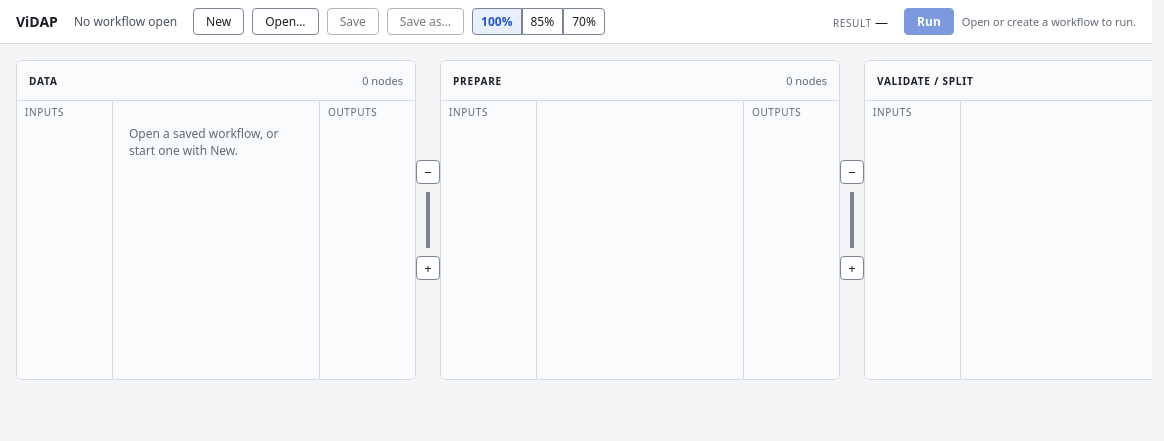
Graph authoring (P3-EP04B) › saves an untitled workflow through Save as, with null bases
The width and height of the screenshot is (1164, 441).
Step 1. Click the button "New" → point(219, 22), box 193,8 -> 244,35
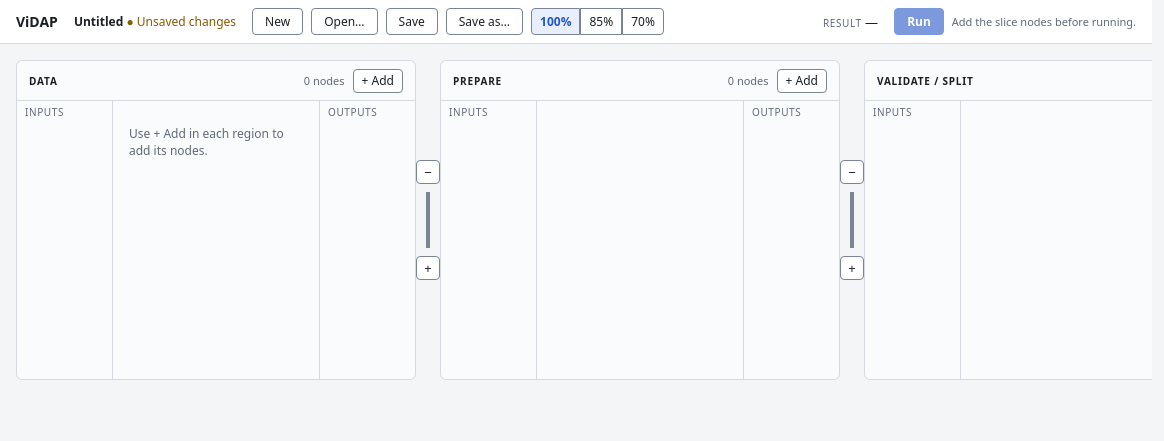
Step 2. Click the button "Save" → point(412, 22), box 386,8 -> 438,35
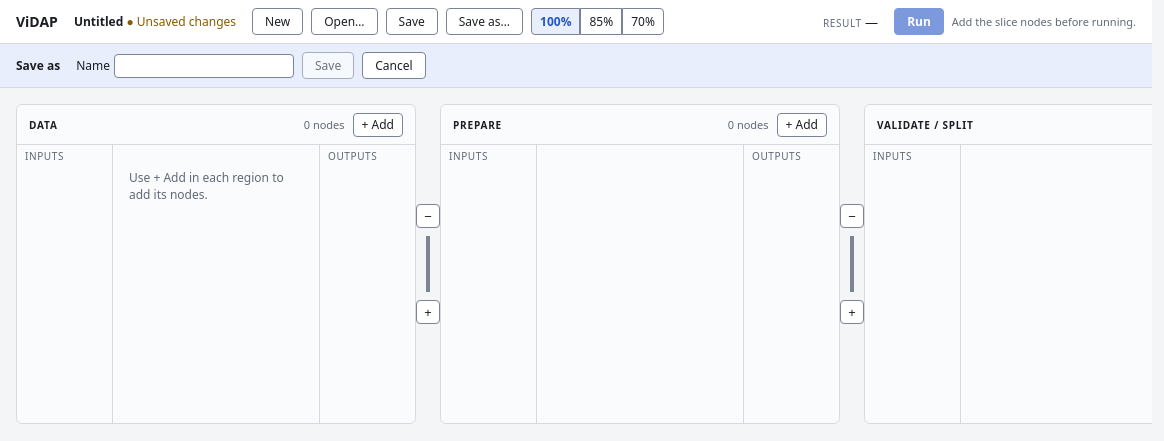
Step 3. Type "my-flow" into the field labelled "Name" → point(204, 66), box 114,54 -> 294,78
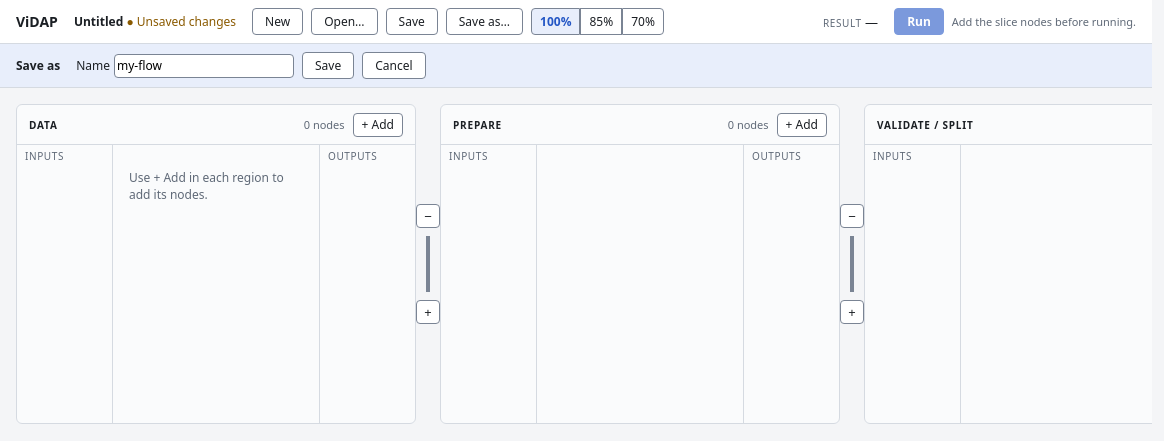
Step 4. Click the button "Save" in the row of "Name" → point(328, 66), box 302,52 -> 354,79
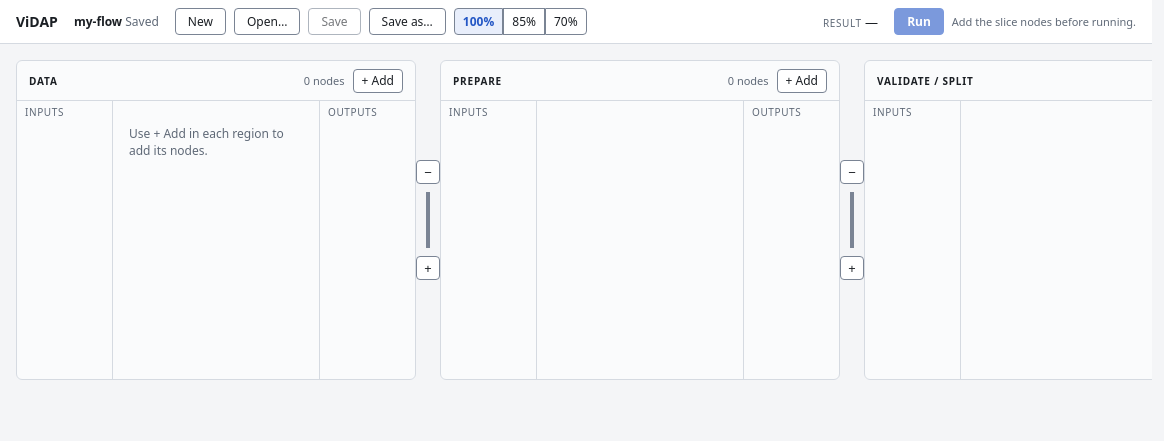
Check: the text "Saved" is shown, box 125,13 -> 159,30
Check: the text "my-flow" is shown, box 74,13 -> 122,30
